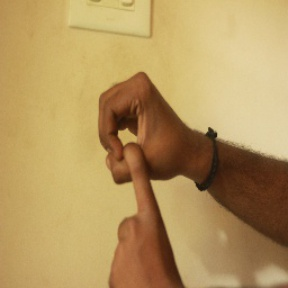Q: (89, 71, 196, 288)
